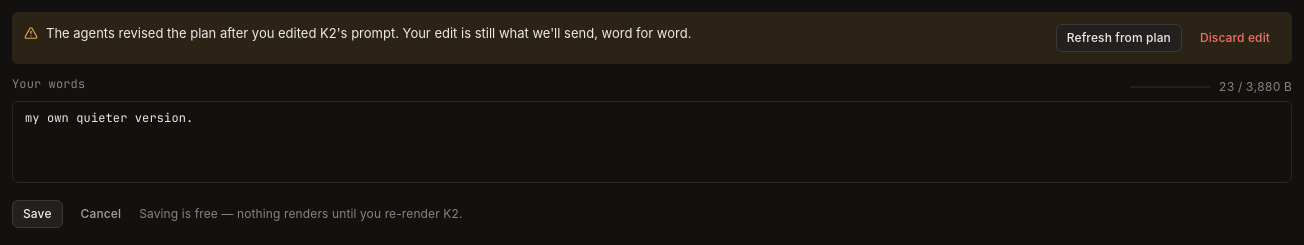
Test: PromptEditor › Refresh from plan loads the new plan text into the editor — UNSAVED
Check: the text box named "Prompt for K2" holds "my own quieter version.", box [12,101,1292,183]
Click the button "Refresh from plan" at coordinates (1119, 38), box [1056,24,1182,52]
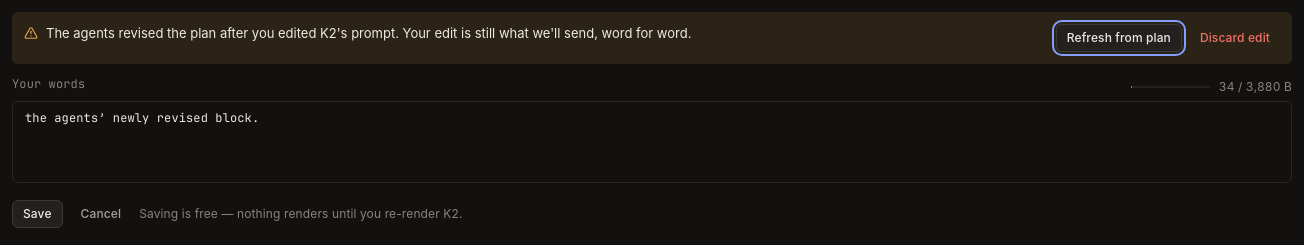
Check: the button "Save" is enabled, box [12,200,63,228]
Check: the text box named "Prompt for K2" holds "the agents’ newly revised block.", box [12,101,1292,183]
